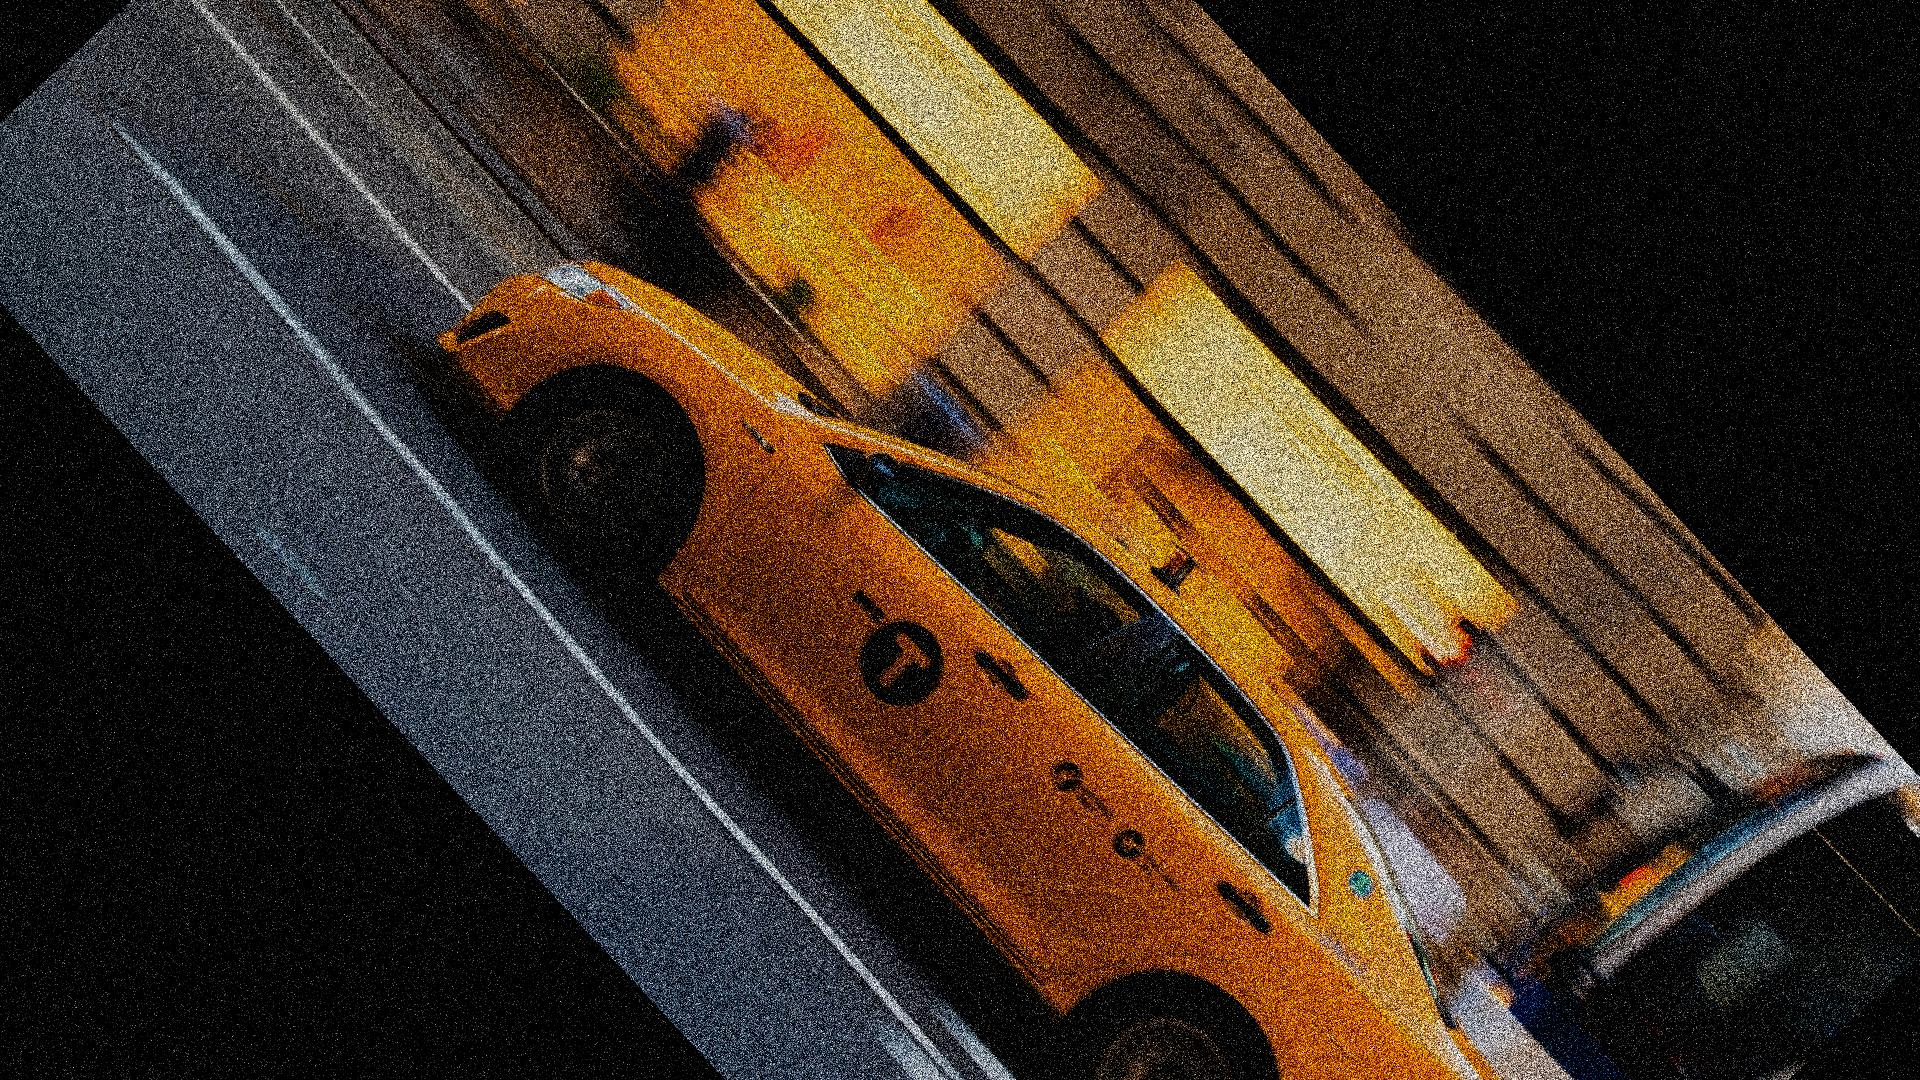taxi: (450, 223, 1451, 1080)
